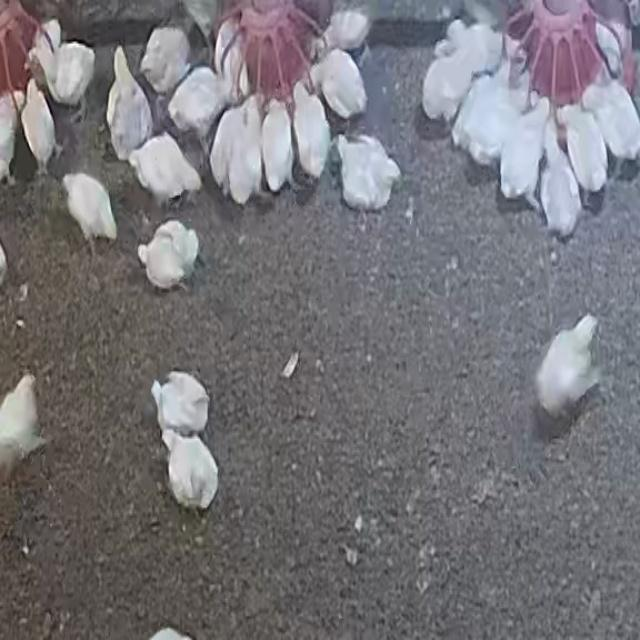chicken: (534, 314, 600, 422), (454, 73, 516, 166), (106, 46, 153, 162), (128, 134, 202, 207), (499, 97, 550, 197), (421, 44, 481, 119), (0, 374, 46, 471), (138, 219, 200, 290), (164, 430, 218, 510), (166, 65, 224, 139), (588, 82, 640, 162), (26, 44, 95, 104), (62, 173, 119, 245), (562, 103, 607, 193), (308, 52, 372, 115), (209, 94, 250, 190), (340, 138, 397, 206), (151, 372, 209, 438), (140, 25, 192, 95), (291, 83, 329, 178), (544, 133, 578, 237), (20, 78, 56, 174), (231, 100, 260, 212), (448, 19, 504, 72), (216, 19, 252, 101), (262, 98, 291, 191), (324, 9, 370, 52), (595, 23, 630, 70)
